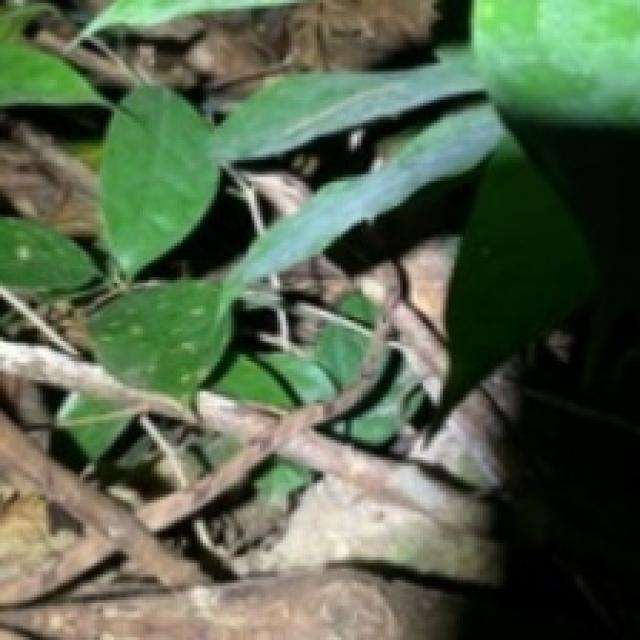dog-toothed cat snake: (138, 262, 400, 532), (0, 534, 119, 606)
